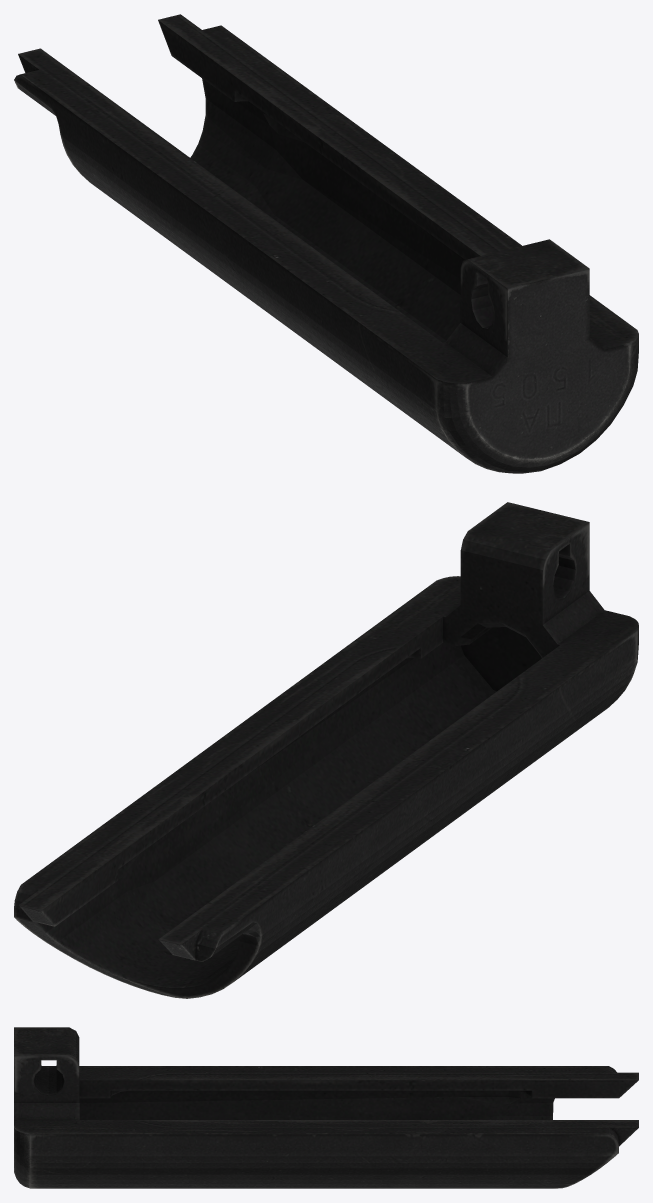
3 renders of one model, top to bottom at view 1: azimuth 30°, elevation 25°; view 2: azimuth 150°, elevation 25°; view 3: azimuth 270°, elevation 25°, orthographic. The views are drawn at different scales.
Visible parts, largest first — view 1: TW_634f06262e5def262d0b30ca_PZ_Import; view 2: TW_634f06262e5def262d0b30ca_PZ_Import; view 3: TW_634f06262e5def262d0b30ca_PZ_Import.
Part boxes in pixels (x1,y1,x2,y2): TW_634f06262e5def262d0b30ca_PZ_Import: (14,14,638,473); TW_634f06262e5def262d0b30ca_PZ_Import: (14,502,638,998); TW_634f06262e5def262d0b30ca_PZ_Import: (14,1027,638,1188).
Bounding box in the file's own units: 0.0185 × 0.0717 × 0.0177.
1 material, 1 textured.
